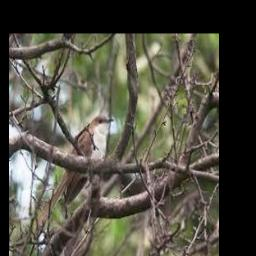Cuckoo: (37, 115, 114, 223)
